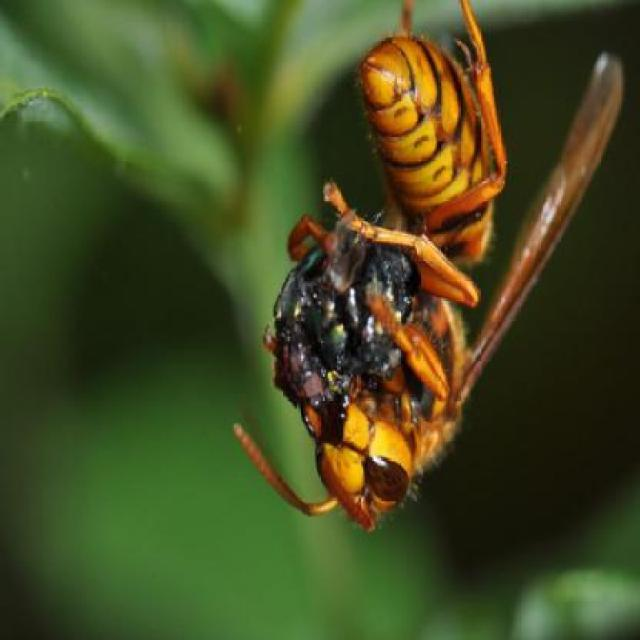Wasp: (210, 0, 625, 552)
